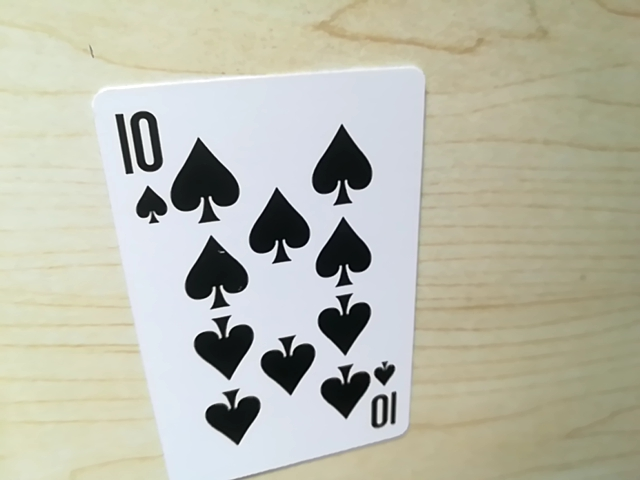ht 10: (112, 95, 174, 227), (361, 361, 403, 435)
